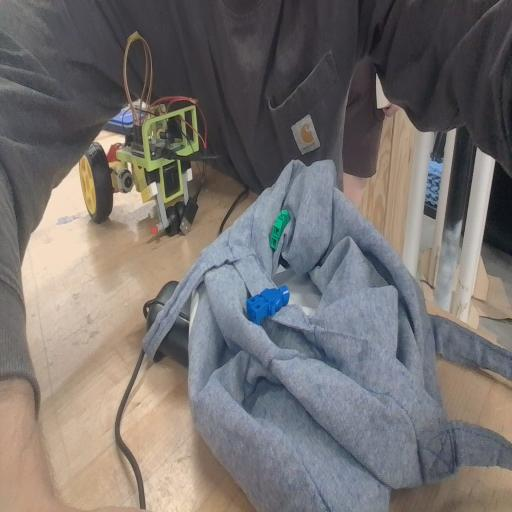blue LEGO minifig: (244, 283, 292, 322)
green LEGO minifig: (269, 208, 291, 249)
